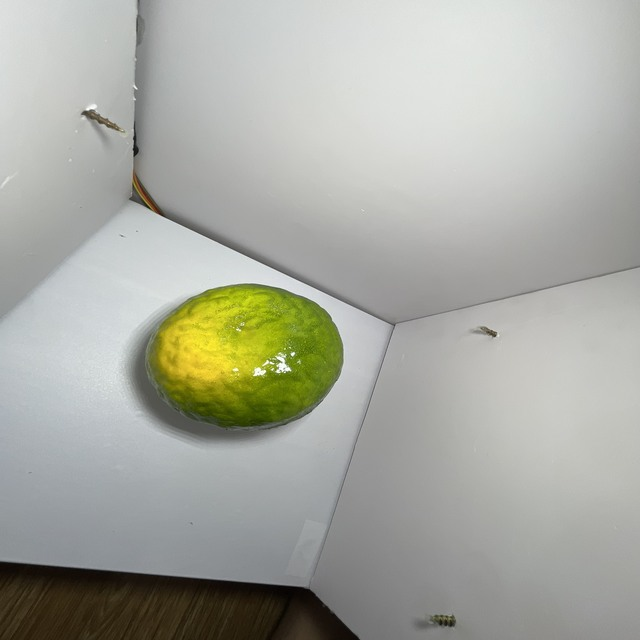Cam xanh: (140, 279, 349, 437)
